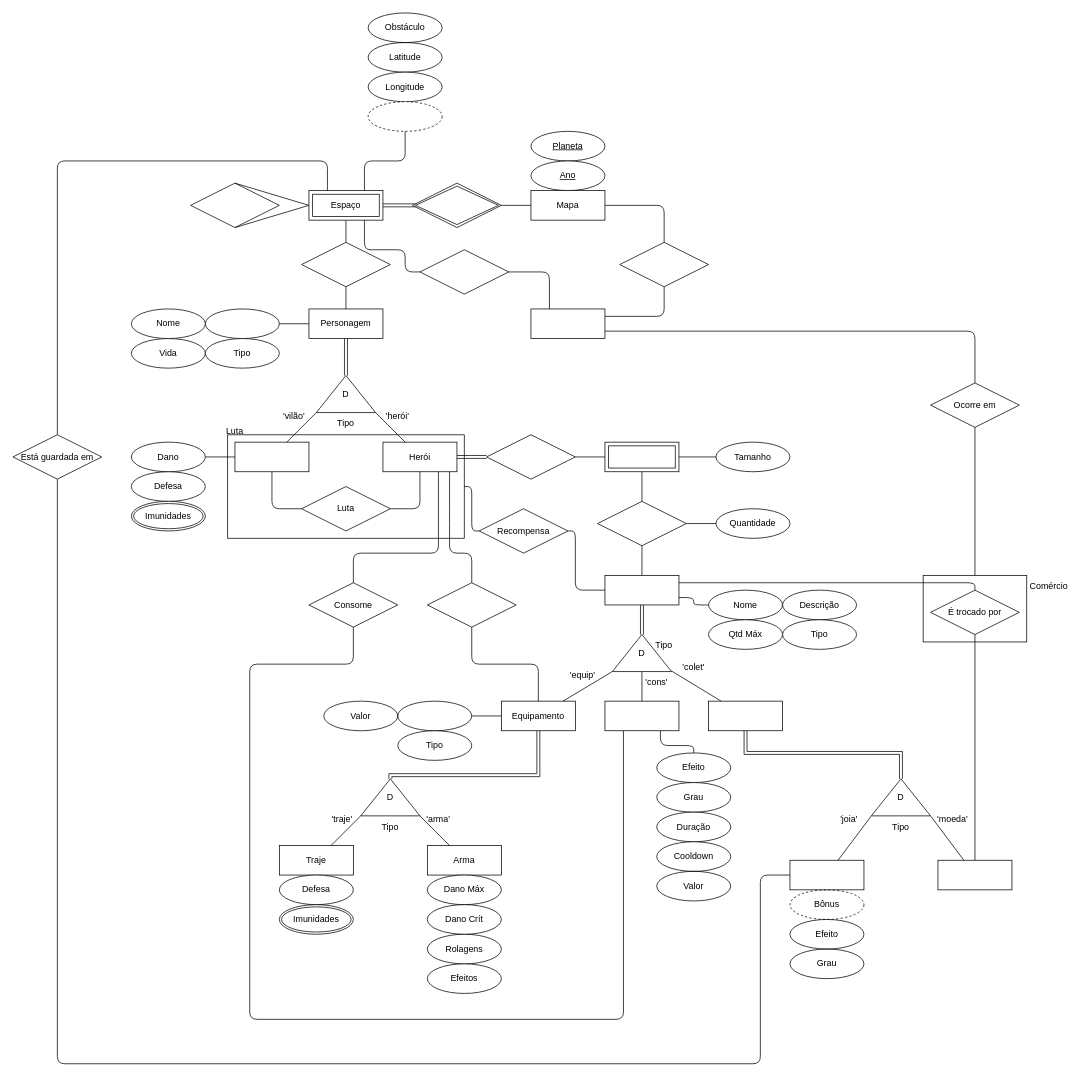
This 1084x1077 diagram has some shape labels left out. The shapes that lost their labels are listed below. From the top down, each one's box as (x1, y1, x2, y2) in pixels, then its label:
(367, 101, 442, 131): Coordenada
(190, 182, 279, 228): Vizinha
(412, 182, 501, 228): Compõe
(301, 242, 390, 287): Está em
(419, 249, 509, 294): Se localiza em
(619, 242, 709, 287): Leva a outro
(205, 308, 279, 339): Agilidade
(530, 308, 605, 339): Base
(234, 441, 309, 472): Vilão
(486, 434, 575, 479): Possui
(604, 441, 679, 472): Inventário
(597, 501, 686, 546): Guarda
(427, 582, 516, 627): Equipa
(604, 575, 679, 605): Item
(397, 700, 472, 731): Integridade
(604, 700, 679, 731): Consumível
(708, 700, 783, 731): Coletável
(789, 860, 864, 890): Jóia
(937, 860, 1012, 890): Moeda
